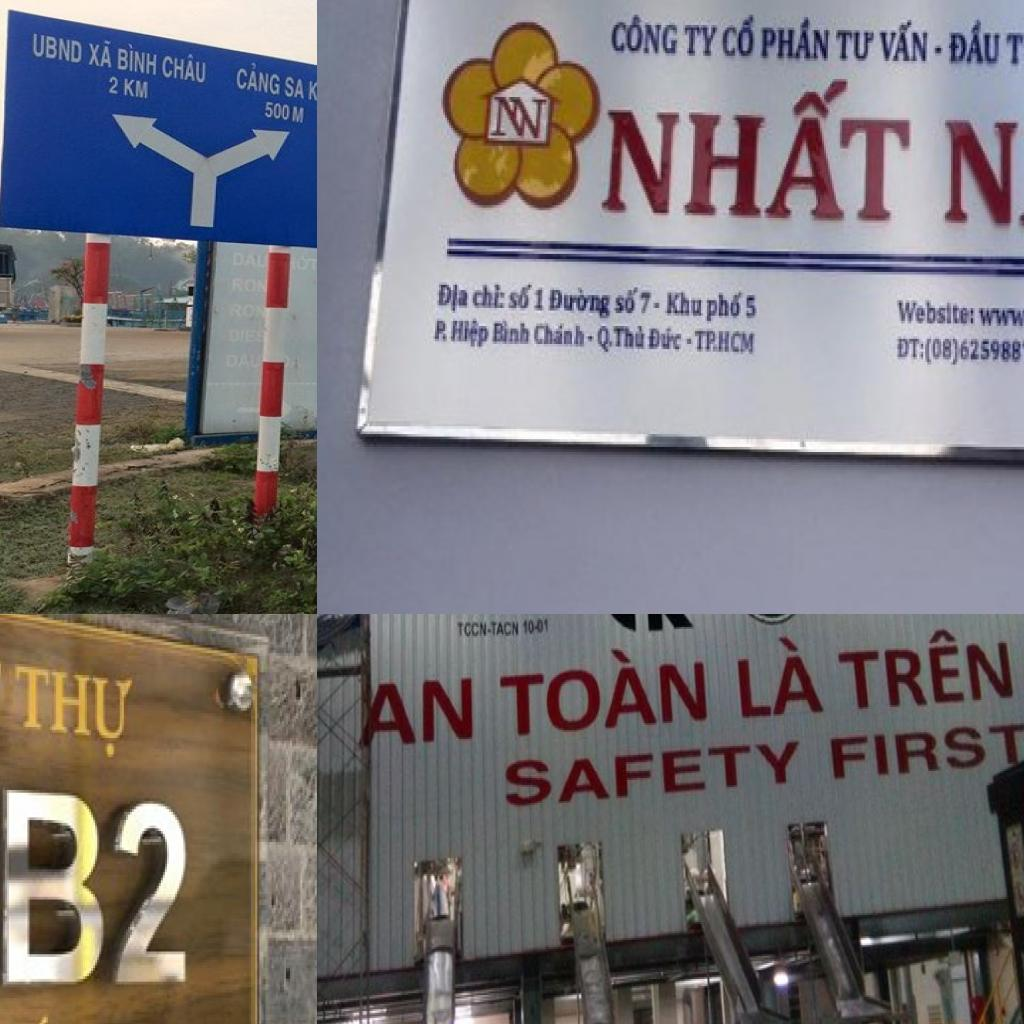text: (596, 68, 915, 238), (0, 770, 115, 1003), (502, 732, 807, 815), (495, 636, 714, 742), (105, 782, 200, 995), (832, 620, 1022, 719), (823, 714, 1024, 788), (13, 648, 140, 765), (937, 112, 1024, 241), (729, 627, 830, 728), (355, 674, 475, 752), (758, 14, 834, 68), (925, 328, 1024, 369), (610, 7, 681, 61), (880, 12, 933, 69), (949, 17, 1003, 69), (897, 295, 979, 329), (548, 282, 612, 324), (234, 57, 284, 98), (721, 12, 760, 64), (534, 316, 588, 352), (834, 25, 878, 69), (32, 32, 85, 66), (683, 17, 721, 64), (160, 50, 210, 85), (705, 287, 747, 326), (449, 316, 491, 354), (663, 285, 705, 321), (116, 42, 160, 76), (717, 326, 758, 362), (469, 280, 508, 316), (433, 280, 471, 316), (645, 323, 685, 357), (455, 620, 520, 639), (493, 318, 532, 349), (612, 321, 647, 354), (506, 280, 536, 316), (612, 285, 642, 318), (1004, 24, 1024, 71), (896, 336, 928, 365), (86, 39, 114, 70), (693, 326, 719, 357), (231, 250, 270, 270), (522, 614, 552, 640), (596, 324, 616, 360), (230, 277, 270, 294), (264, 100, 292, 123), (228, 304, 268, 320), (431, 316, 451, 346), (284, 75, 307, 101), (124, 78, 150, 100), (744, 290, 760, 323), (530, 285, 546, 316), (638, 288, 654, 318), (229, 328, 257, 344), (295, 255, 317, 274), (306, 74, 317, 104), (108, 74, 122, 96), (292, 105, 306, 126), (933, 40, 949, 58), (652, 298, 666, 313), (685, 336, 697, 349), (588, 334, 596, 344)
